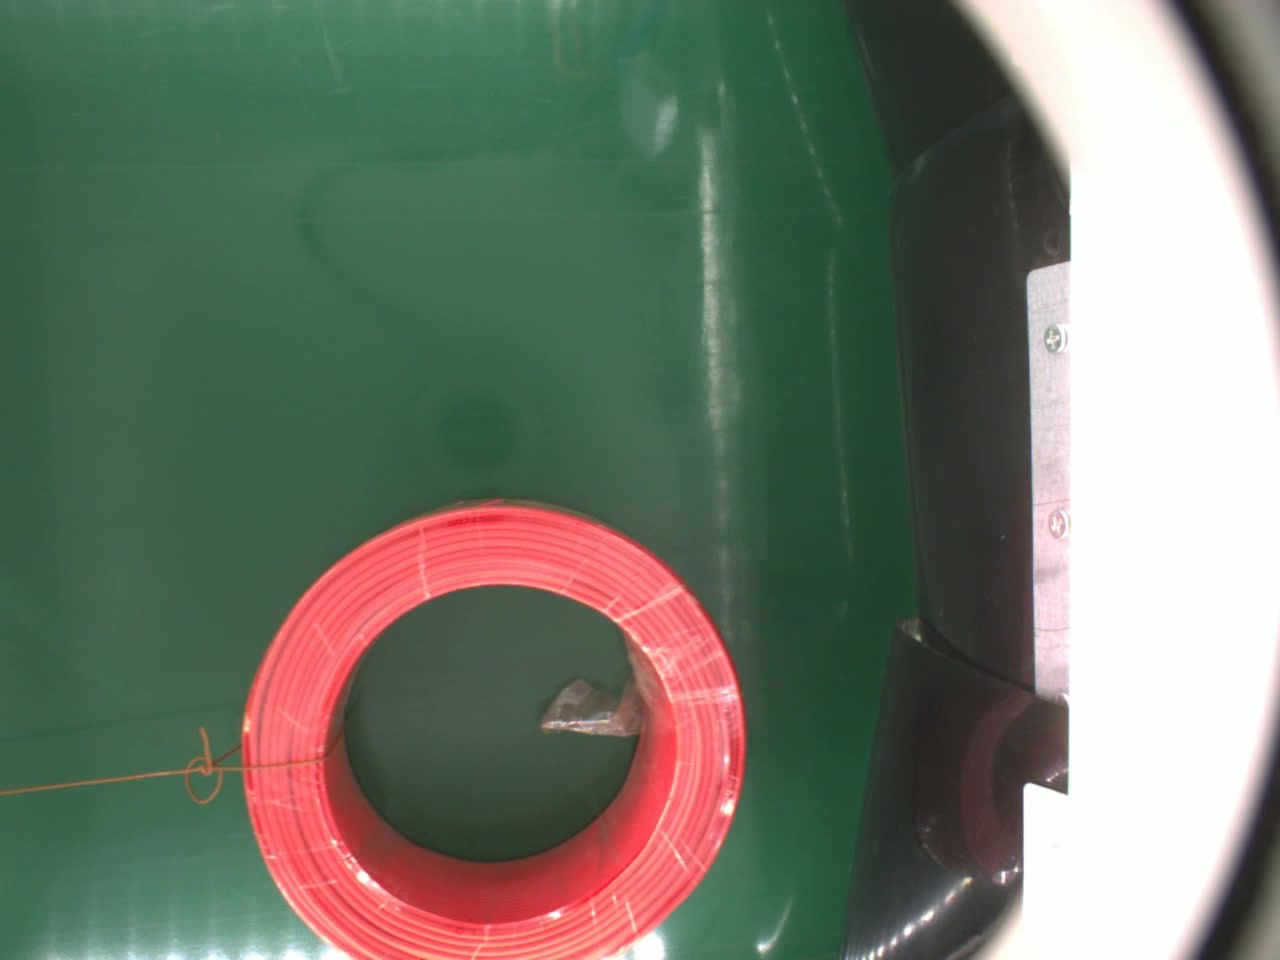red: (237, 500, 753, 959)
